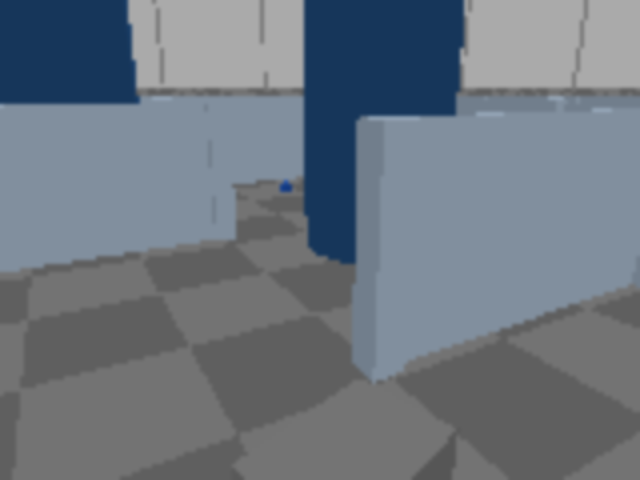obstacle: (230, 378, 458, 478)
